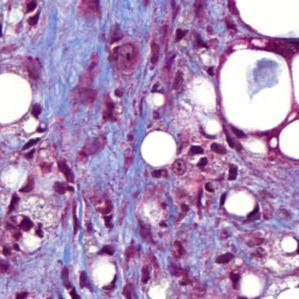steatosis: (139, 128, 179, 171)
